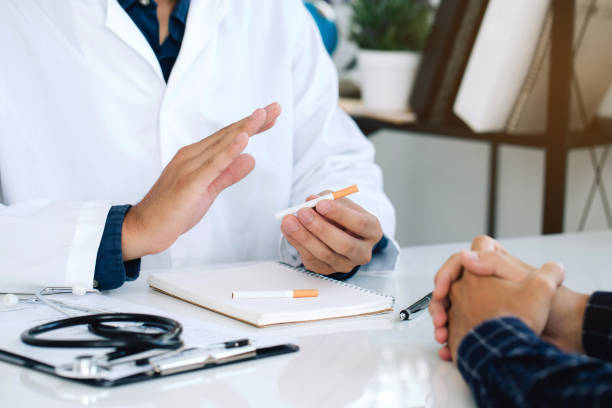cigarette: (274, 183, 359, 219), (231, 288, 320, 302)
